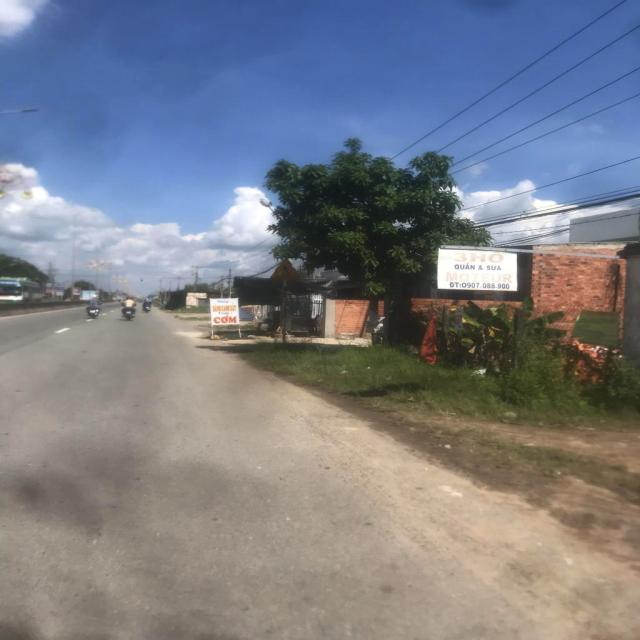chu_y_nguoi_di_bo_cat_ngang: (270, 258, 302, 280)
